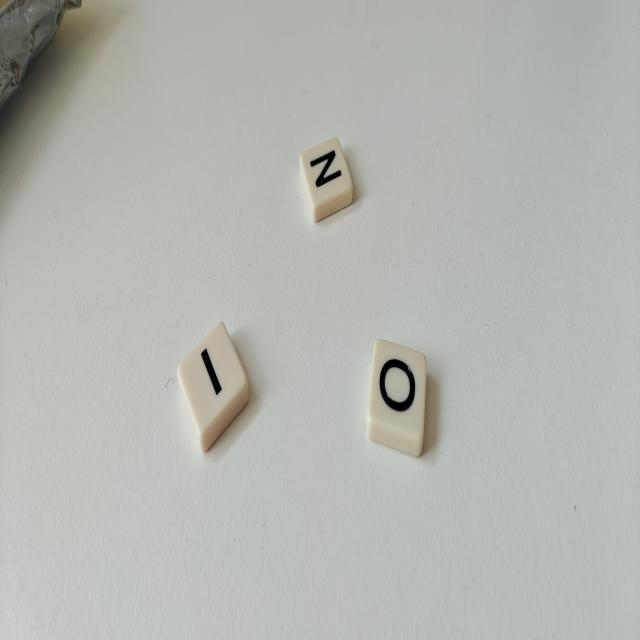i: (177, 322, 248, 451)
n: (300, 138, 353, 221)
o: (367, 340, 427, 456)
